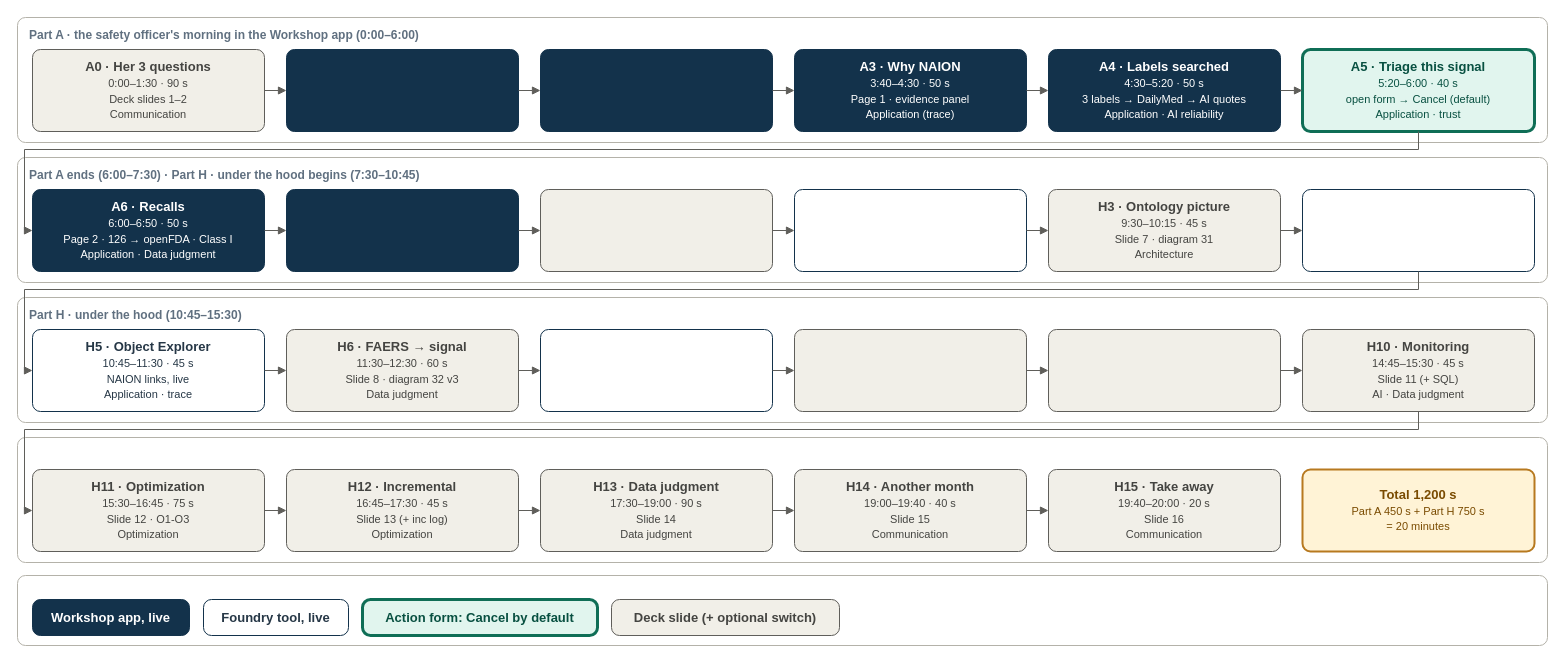
This 1565x663 diagram has some shape labels left out. Each missing label, with the box of its shape:
A1 · Morning brief 1:30–3:00 · 90 s Workshop · 3 cards Application · trust: (286, 48, 518, 132)
A2 · One drug 3:00–3:40 · 40 s Page 1 · semaglutide Application: (540, 48, 772, 132)
A7 · What changed 6:50–7:30 · 40 s Page 3 · past month Application: (286, 188, 518, 272)
H1 · Architecture 7:30–8:30 · 60 s Slide 6 · diagram 38 Architecture: (540, 188, 772, 272)
H2 · Data Lineage 8:30–9:30 · 60 s Foundry lineage, live Architecture: (794, 188, 1026, 272)
H4 · Ontology Manager 10:15–10:45 · 30 s MSSM Signal, live Architecture: (1302, 188, 1534, 272)
H7 · Signal code 12:30–12:50 · 20 s Code Repo (optional) Architecture: (540, 328, 772, 412)
H8 · Review queue 12:50–13:30 · 40 s Slide 9 Data judgment: (794, 328, 1026, 412)
H9 · AI reliability 13:30–14:45 · 75 s Slide 10 (+ SQL) AI · Optimization: (1048, 328, 1280, 412)
Legend (box colour = what is on screen): (16, 574, 1548, 646)
Part H (cont.) · optimization, judgment, close (15:30–20:00): (16, 436, 1548, 562)
